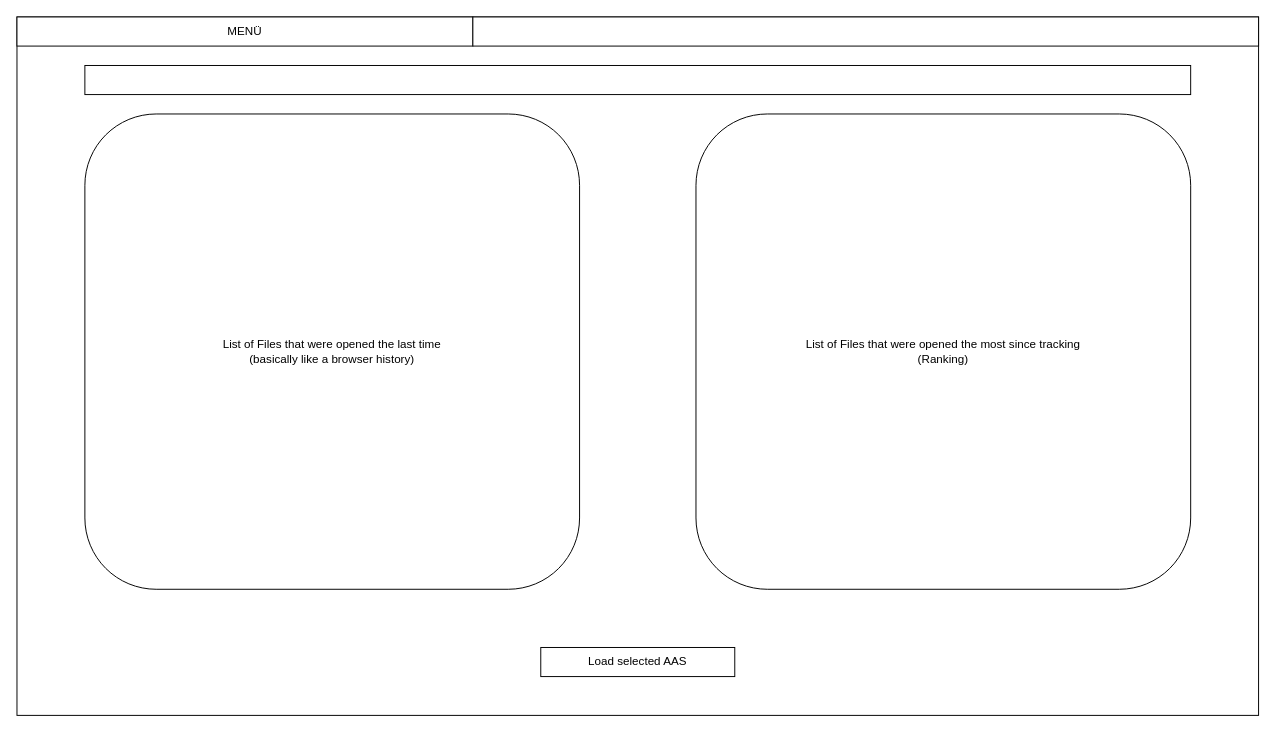
Some shapes in this 1276 by 732 pixel diagram are drawn without their labels. Each missing label, with the centre of its shape:
Free for Text: point 865,31
Search Bar: point 637,80
